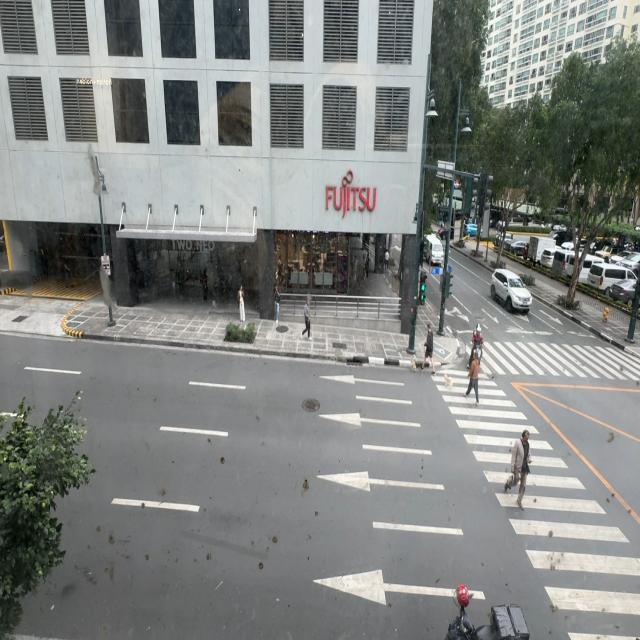crossing: (514, 428, 531, 510), (465, 350, 481, 403), (423, 322, 436, 376)
pedestrain: (303, 296, 312, 339), (273, 281, 281, 325), (64, 260, 72, 288), (384, 249, 390, 273)
